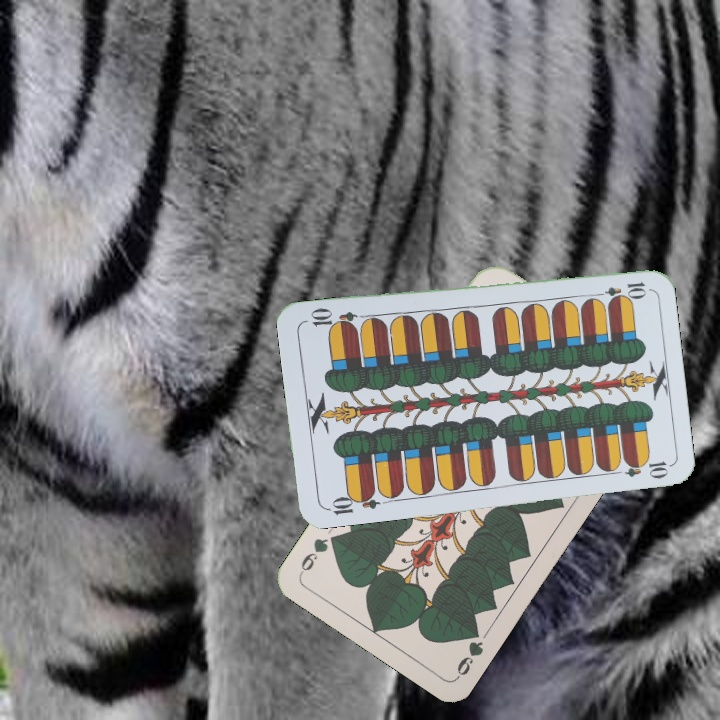E10: (322, 487, 381, 518), (590, 278, 649, 301)
G9: (452, 622, 486, 681)
